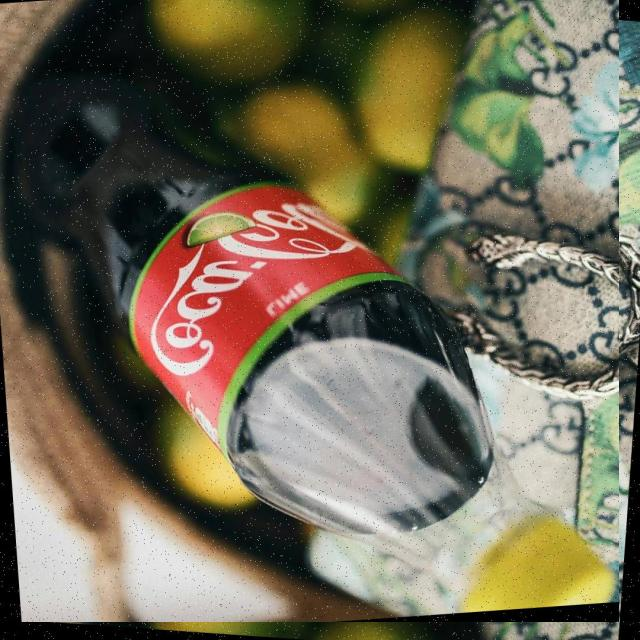coca-cola: (0, 0, 619, 622)
